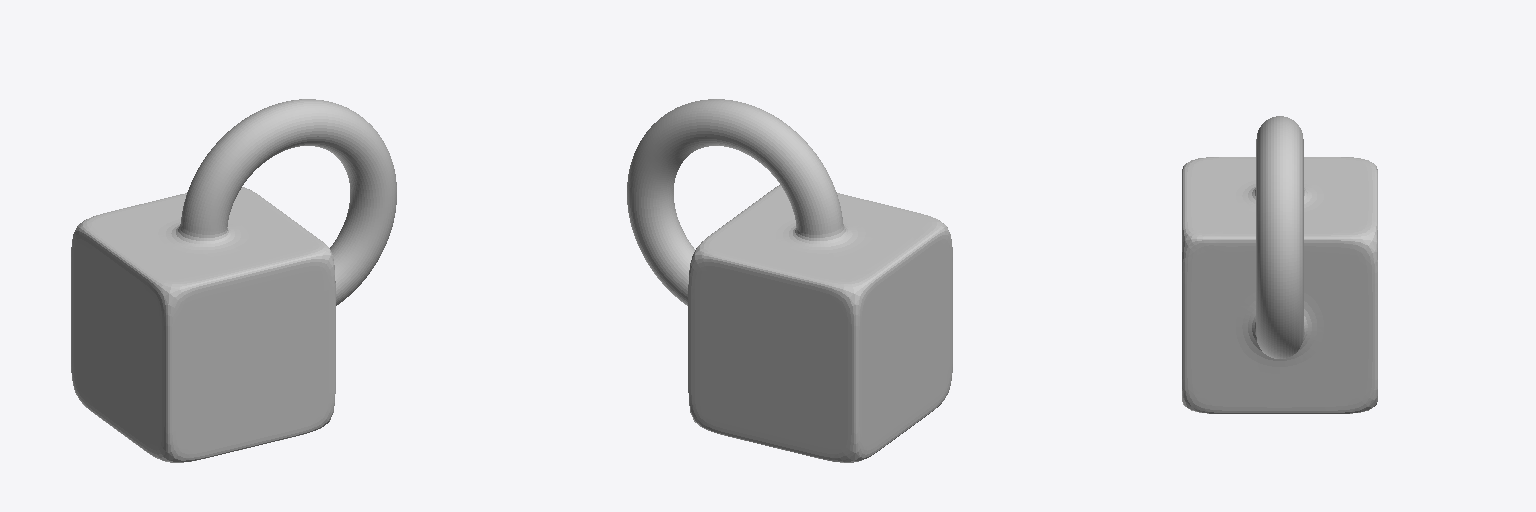
Rendered from Cub.obj.
3 renders of one model, left to right at view 1: azimuth 30°, elevation 25°; view 2: azimuth 150°, elevation 25°; view 3: azimuth 270°, elevation 25°, orthographic.
Visible parts, largest first — view 1: Torus; view 2: Torus; view 3: Torus.
Boxes of the visible parts, x1=… form: Torus: x1=71, y1=99, x2=396, y2=462; Torus: x1=627, y1=99, x2=952, y2=462; Torus: x1=1182, y1=116, x2=1377, y2=413.
Size of the model in its own units: 3.24 by 3.24 by 2.